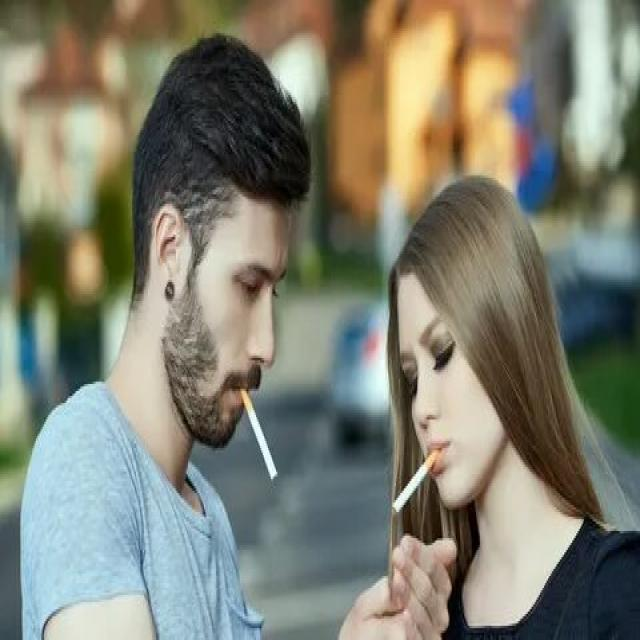cigarette: (239, 379, 281, 486), (388, 446, 443, 522)
